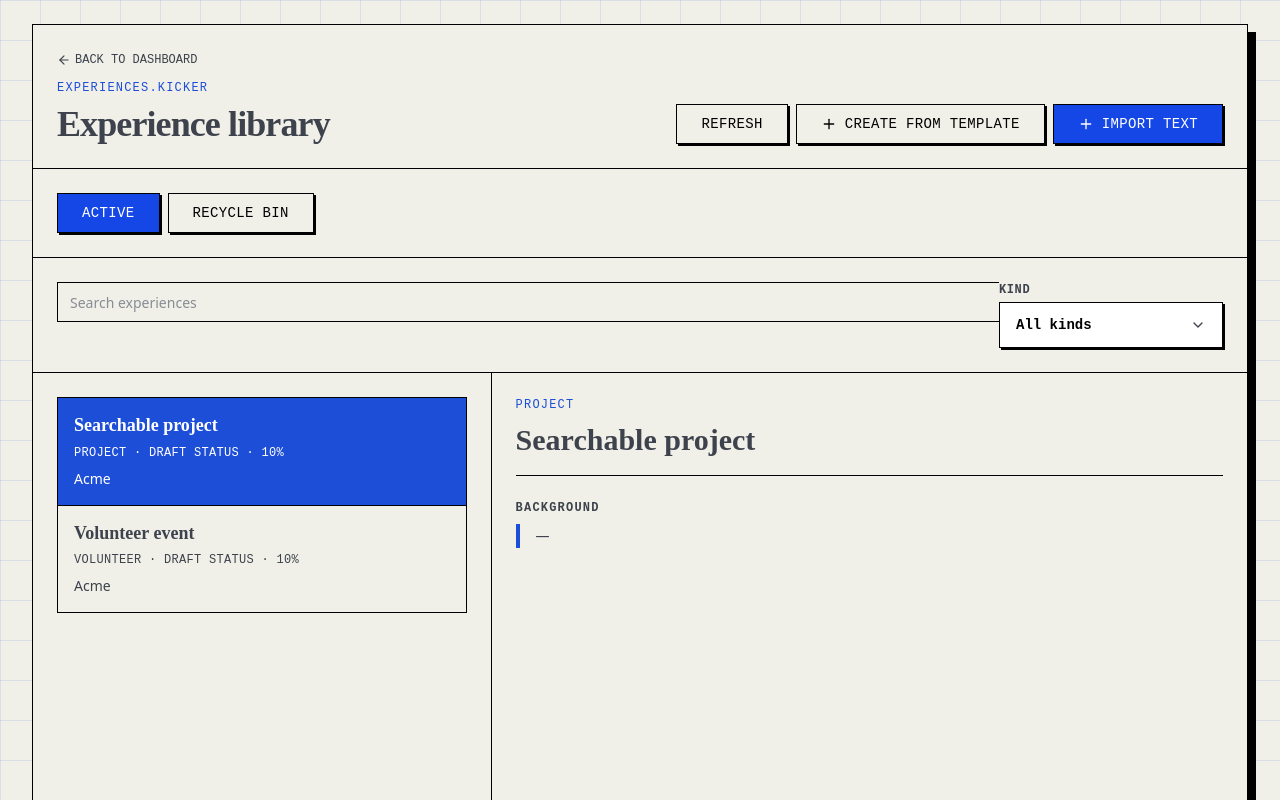
ExperienceLibraryPage › reselects the first visible item when a filter hides the selected detail
Check: the heading "Searchable project" is shown, box [516,423,755,456]
Type "volunteer" into the field labelled "Search experiences" at point(528, 302), box [57,282,999,322]
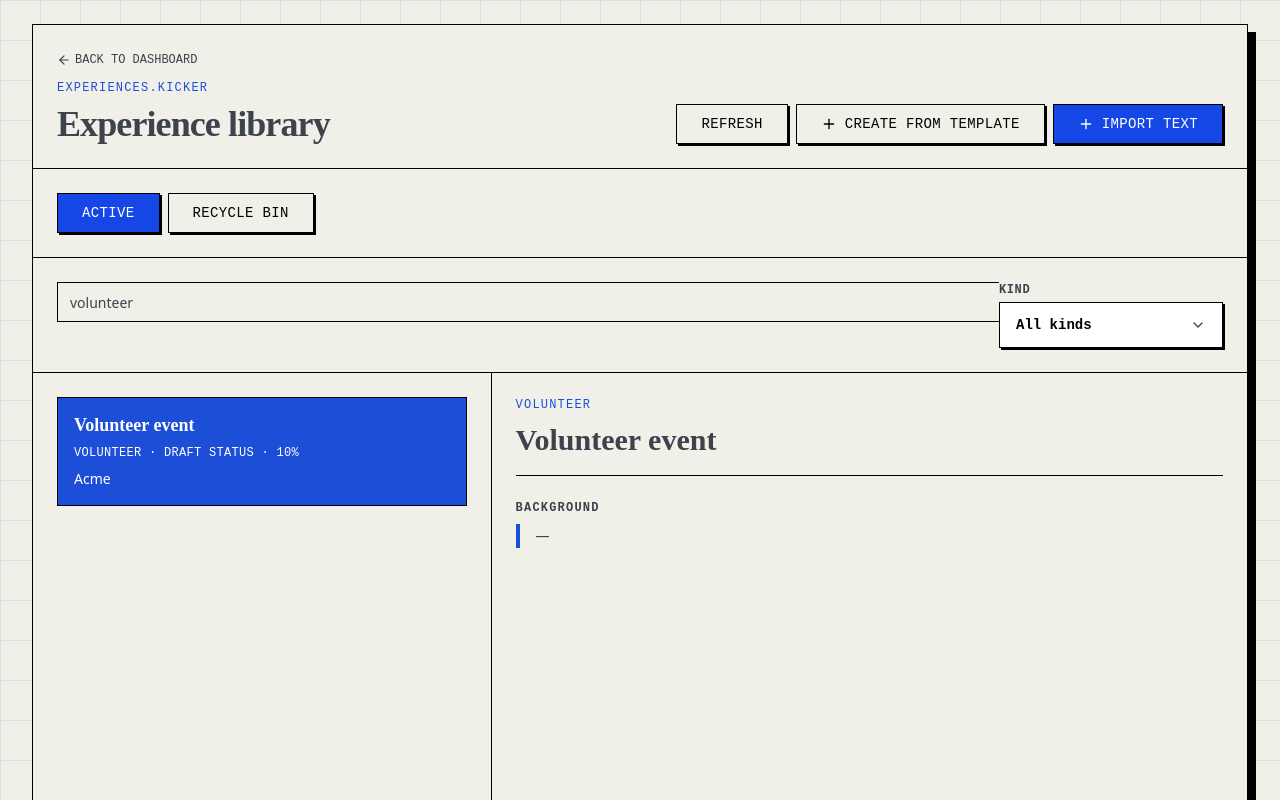
Check: the heading "Volunteer event" is shown, box [516,423,716,456]
